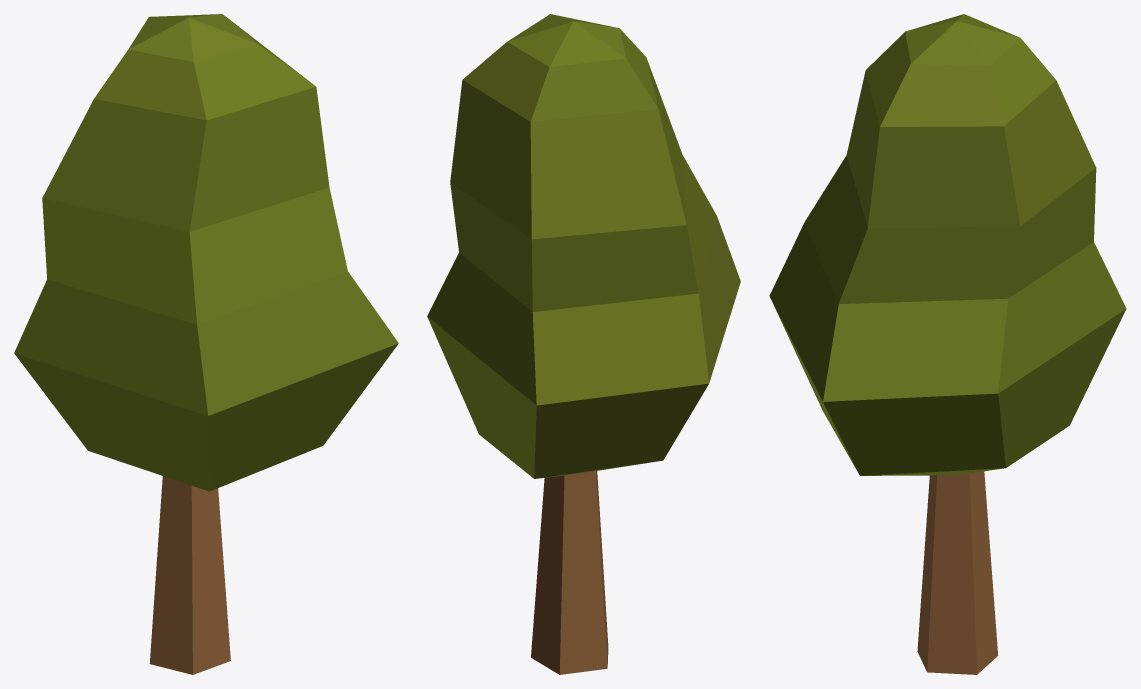
File: Tree2.fbx
3 views of the same model, side by side, from view 1: azimuth 30°, elevation 25°; view 2: azimuth 150°, elevation 25°; view 3: azimuth 270°, elevation 25° (orthographic).
Parts seen in each view (by area): view 1: Tree2; view 2: Tree2; view 3: Tree2.
Boxes of the visible parts, <box> form: Tree2: <box>14,14,398,674</box>; Tree2: <box>427,14,740,674</box>; Tree2: <box>769,14,1126,674</box>.
Bounding box in the file's own units: 36.99 × 75.65 × 38.37.
